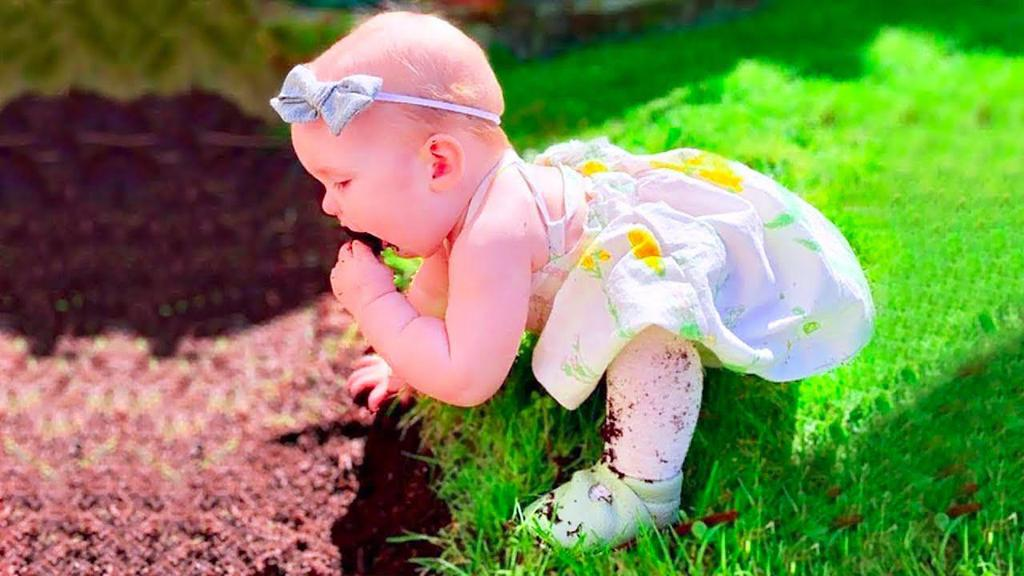child: (237, 7, 881, 548)
